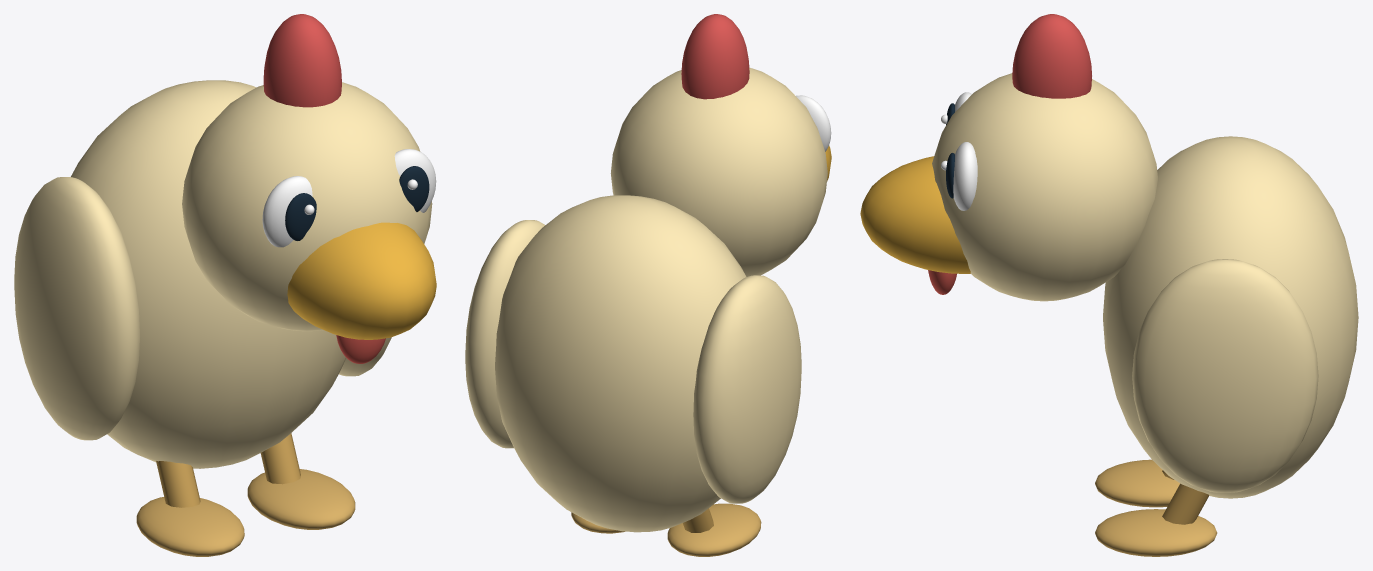
Rendered from pet-chicken.glb.
3 renders of one model, left to right at view 1: azimuth 30°, elevation 25°; view 2: azimuth 150°, elevation 25°; view 3: azimuth 270°, elevation 25°, orthographic. The views are drawn at different scales.
Parts seen in each view (by area): view 1: chicken; view 2: chicken; view 3: chicken.
Part boxes in pixels (x1,y1,x2,y2): chicken: (14, 14, 436, 556); chicken: (465, 14, 831, 556); chicken: (860, 14, 1358, 556).
Size of the model in its own units: 1.34 by 2.1 by 1.87.
